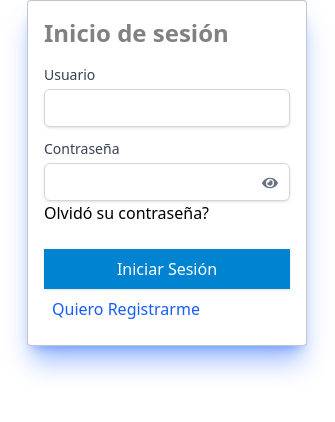
Scenario: Login - Prueba Unitaria › Muestra error si los campos están vacíos
What coordinates should you click on to do the following:
click the button "Iniciar Sesión"
I would click on:
 (167, 269)
Its box is left=44, top=249, right=290, bottom=289.
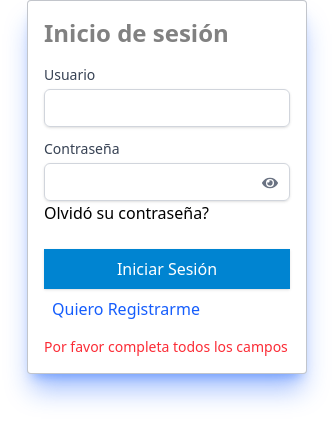
Result: the text "Por favor completa todos los campos" is shown at left=44, top=337, right=290, bottom=357
